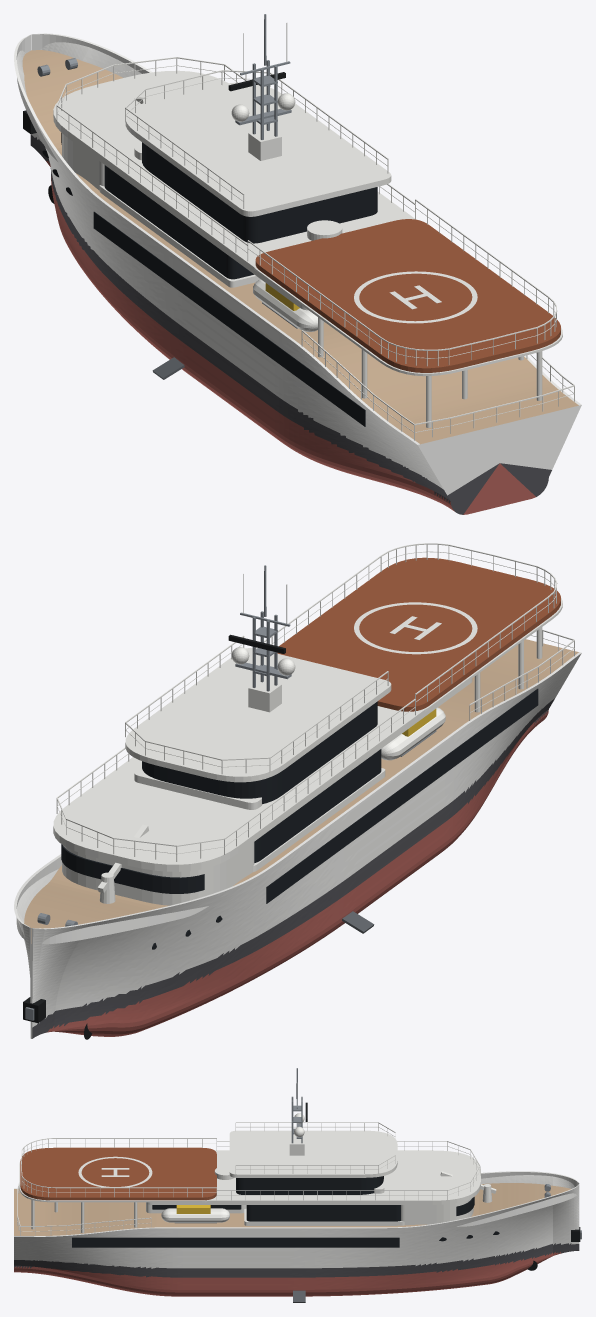
Rendered from paspaley.glb.
3 renders of one model, top to bottom at view 1: azimuth 30°, elevation 25°; view 2: azimuth 150°, elevation 25°; view 3: azimuth 270°, elevation 25°, orthographic. The views are drawn at different scales.
Size of the model in its own units: 13.88 by 21.55 by 53.5.
